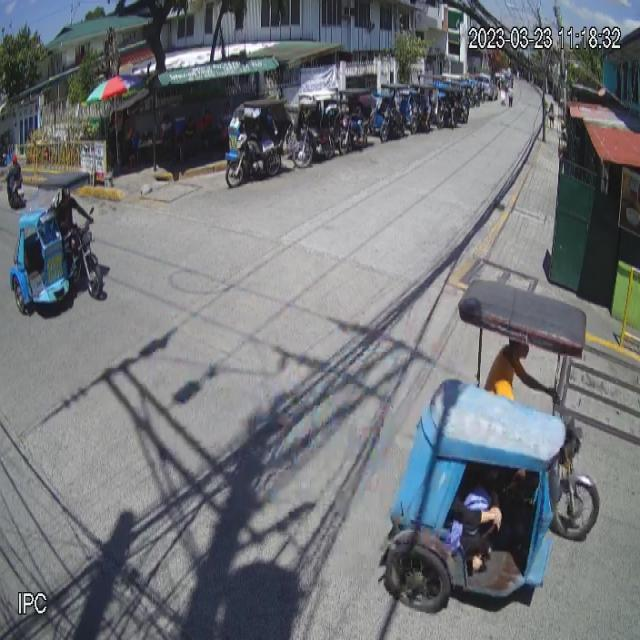Tricycle: (378, 278, 600, 612), (10, 171, 103, 316)
